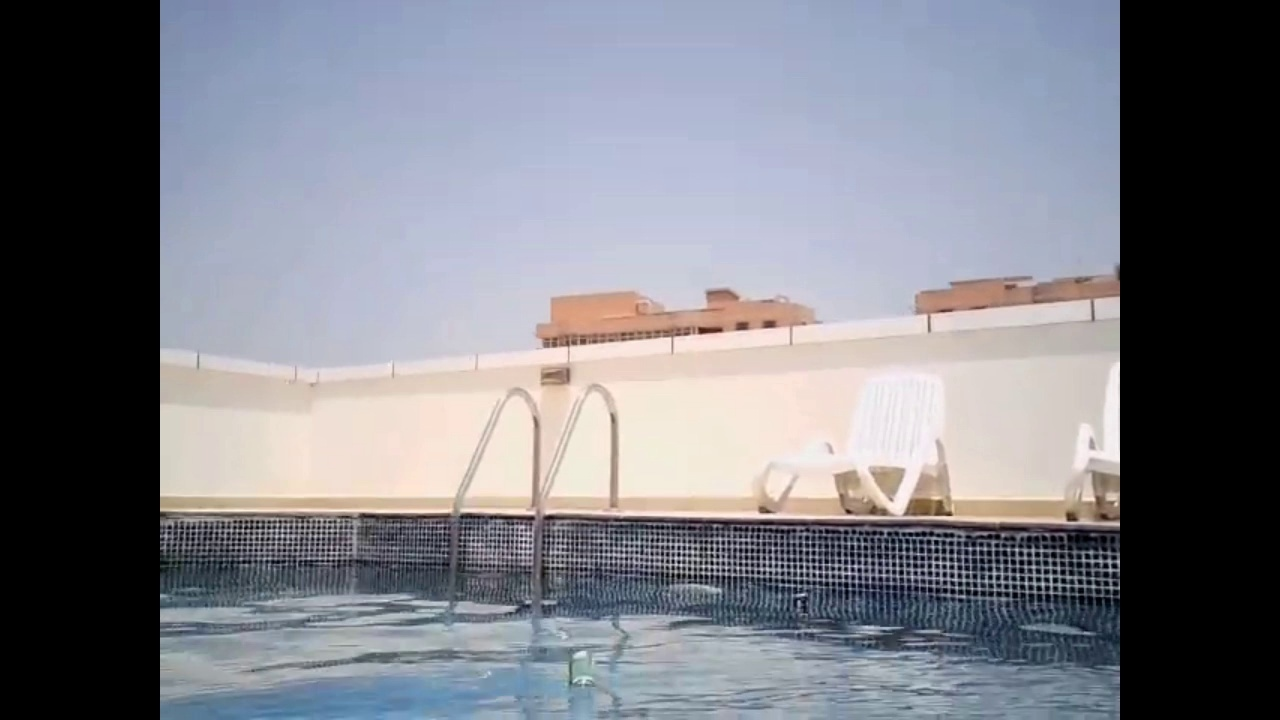debris: (562, 647, 601, 693), (786, 588, 812, 621)
